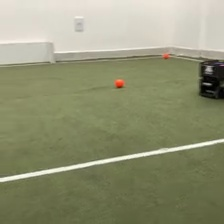ball: (114, 76, 125, 89), (162, 51, 171, 60)
goal: (1, 39, 59, 65)
robot: (195, 55, 224, 101)
